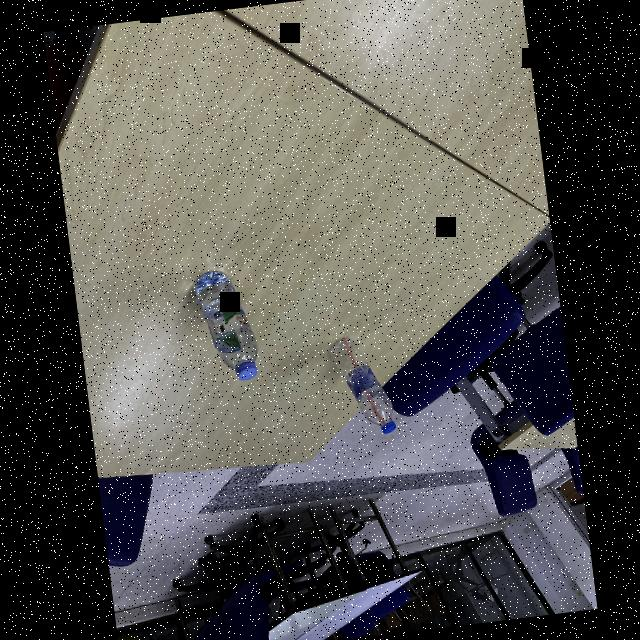plastic_bottle: (188, 263, 262, 388), (324, 330, 398, 443)
plastic_bottle_cap: (234, 359, 258, 382), (380, 420, 396, 435)
